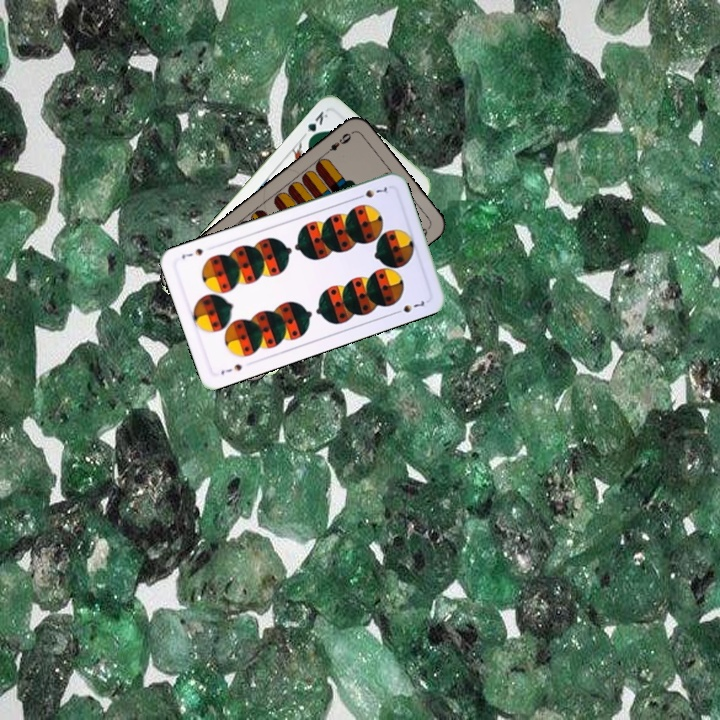E9: (320, 128, 355, 158)
GK: (303, 107, 331, 144)
S7: (352, 183, 392, 202), (217, 360, 244, 378)
